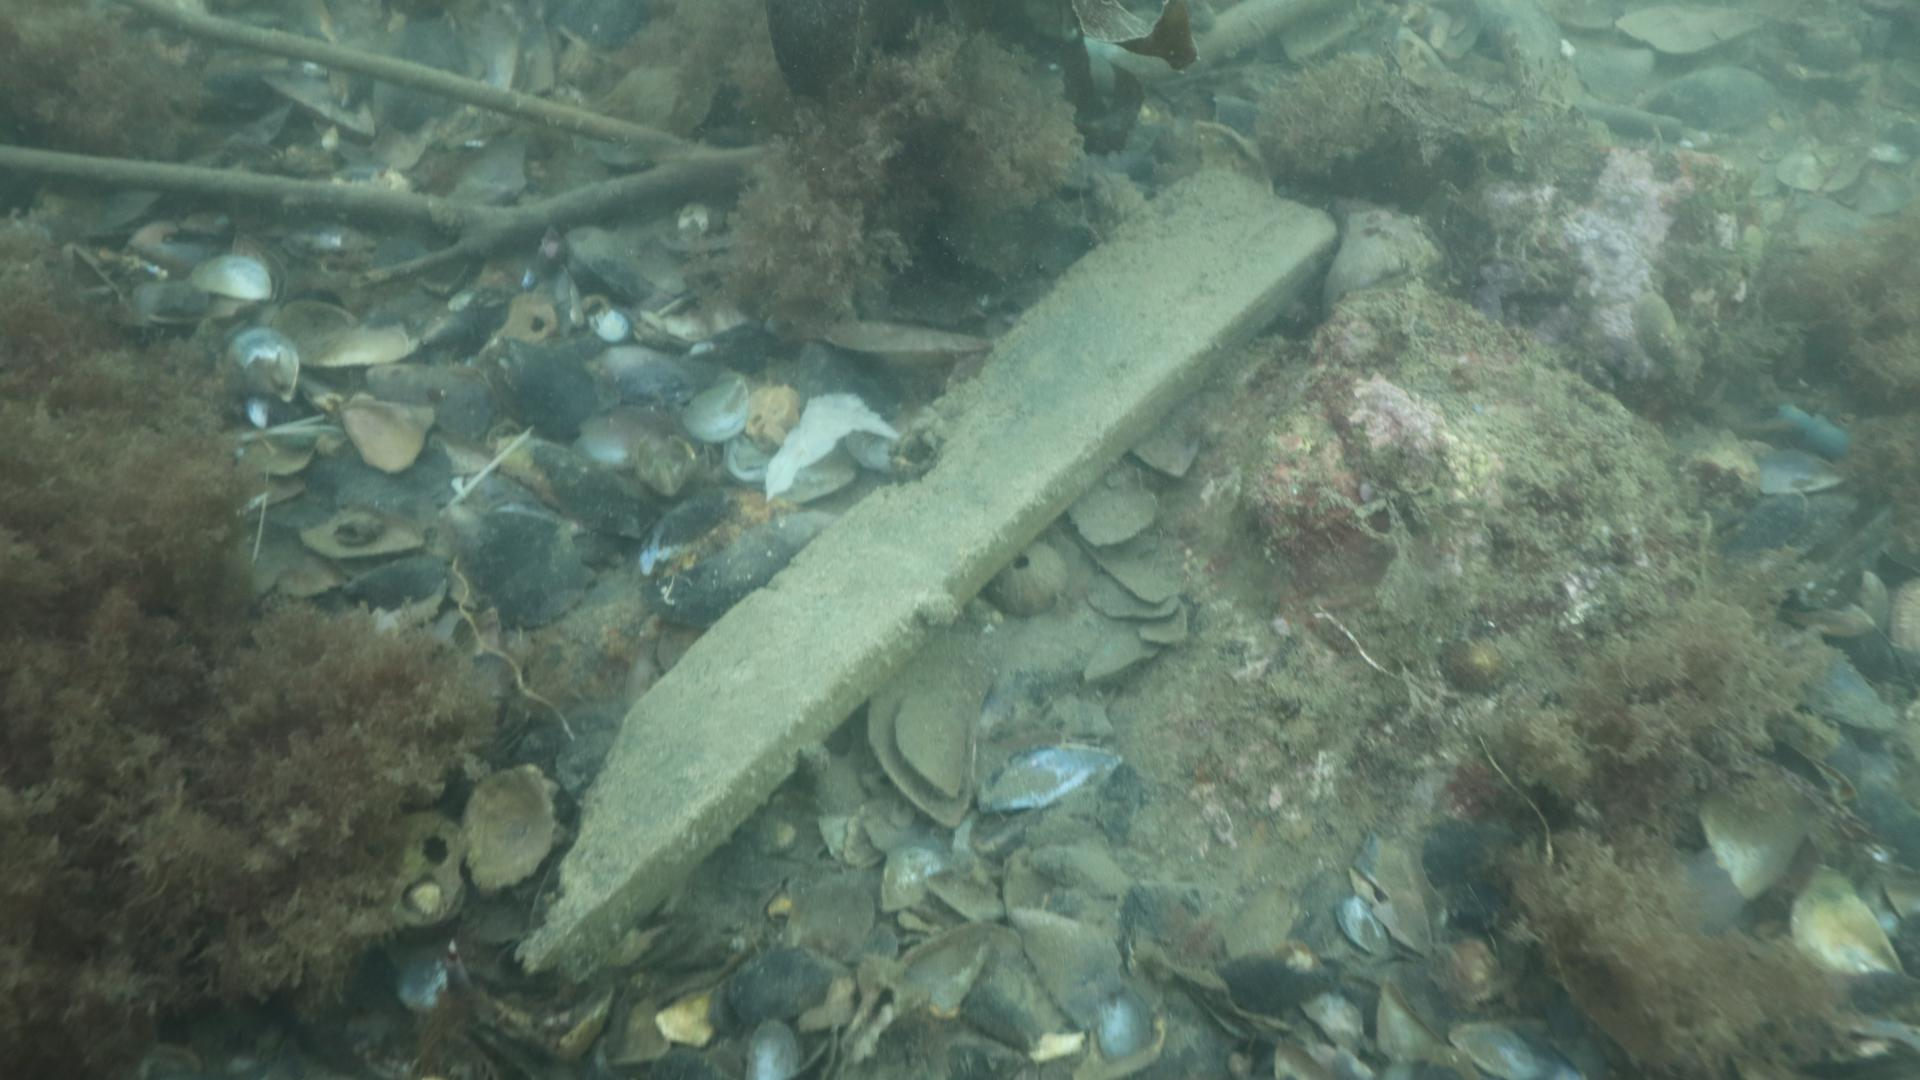wood: (512, 164, 1338, 985)
